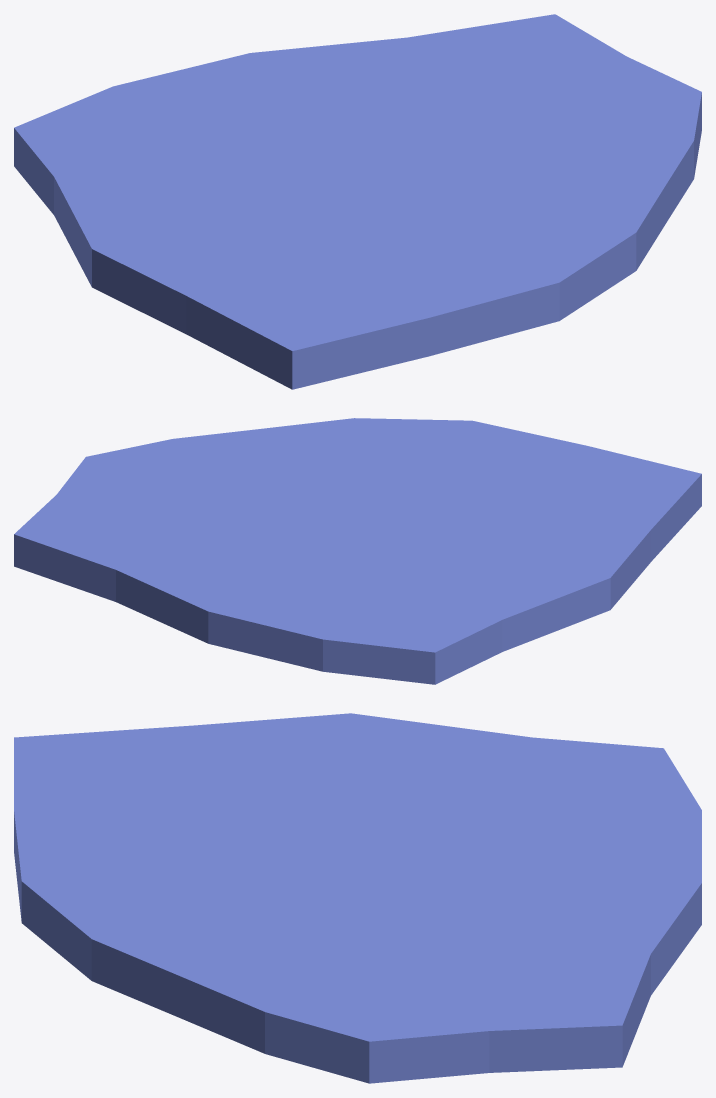
The picture shows the model from 3 angles, top to bottom: view 1: azimuth 30°, elevation 25°; view 2: azimuth 150°, elevation 25°; view 3: azimuth 270°, elevation 25°; orthographic projection. The views are drawn at different scales.
Visible parts, largest first — view 1: Cube; view 2: Cube; view 3: Cube.
Part boxes in pixels (bbox=[...]): Cube: bbox=[14, 14, 701, 389]; Cube: bbox=[14, 418, 701, 684]; Cube: bbox=[14, 713, 701, 1083].
Size of the model in its own units: 2.26 by 0.1346 by 2.
